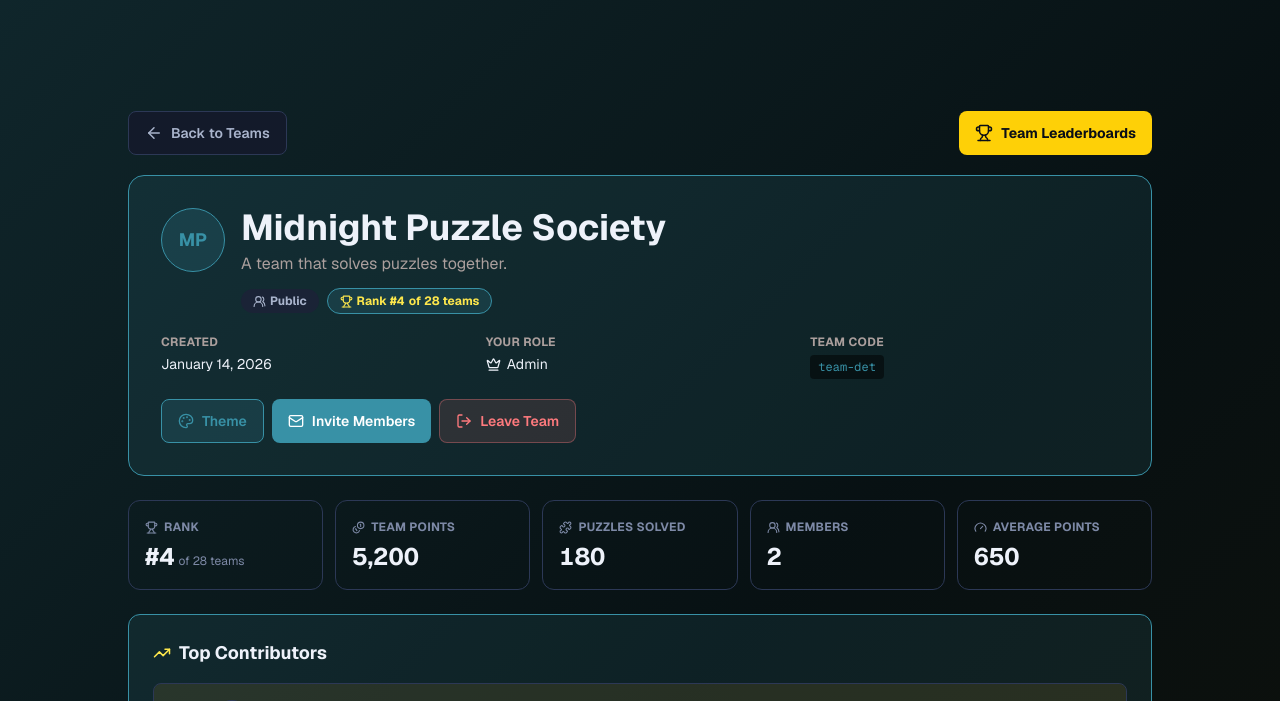
it: Team Detail page — action deck and theme picker (Pass 16B.1) › 66. admin can open the theme picker
This screenshot has width=1280, height=701.
Click the button "Theme".
click(212, 420)  # box [161,398,264,442]
(page scrolled)
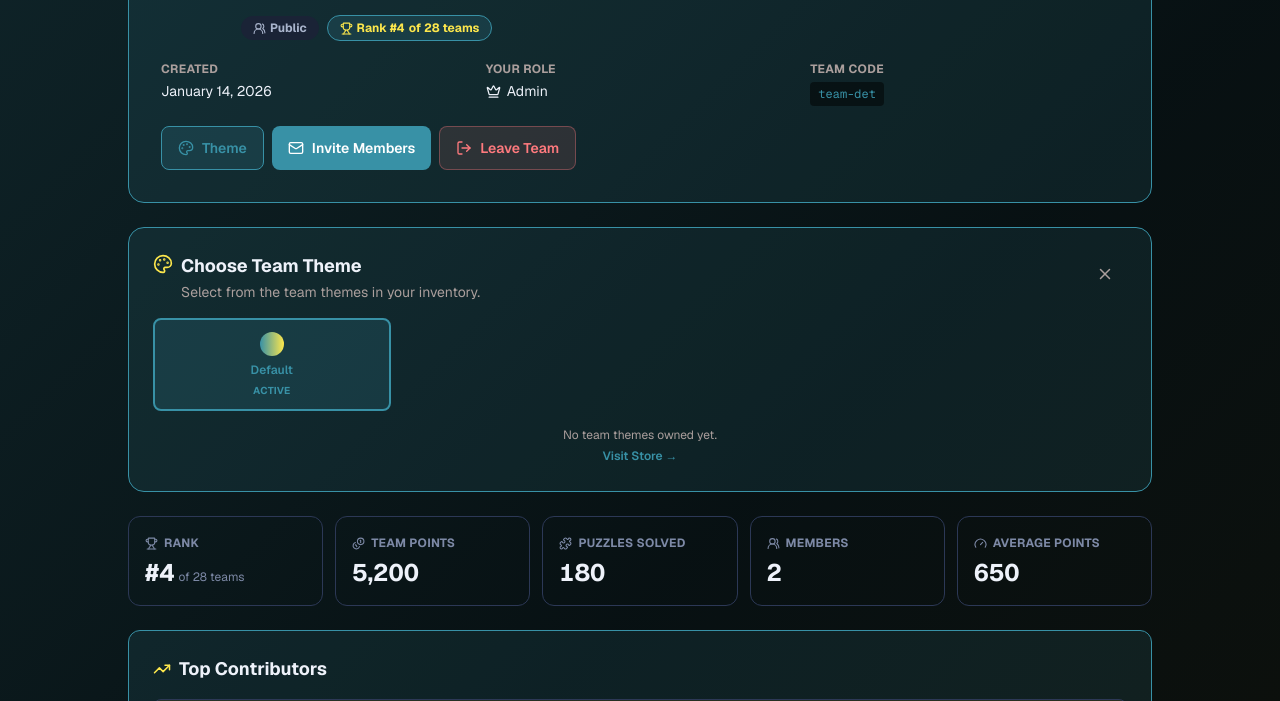
Expected: the element with test id "team-theme-picker" is shown, [128,226,1152,492]
